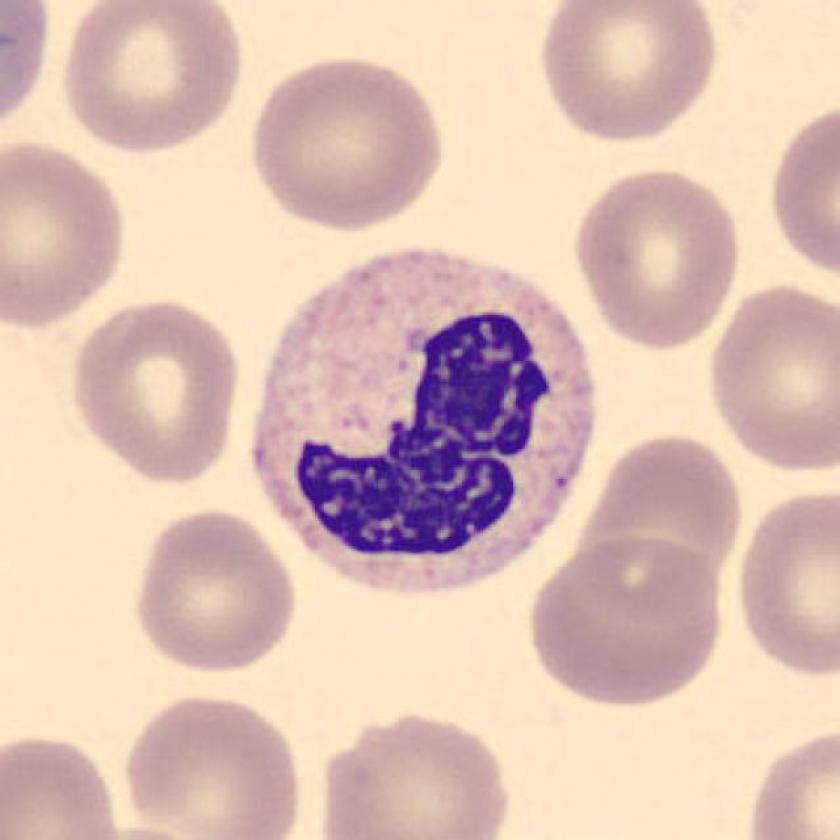neutrophil: (250, 247, 602, 588)
